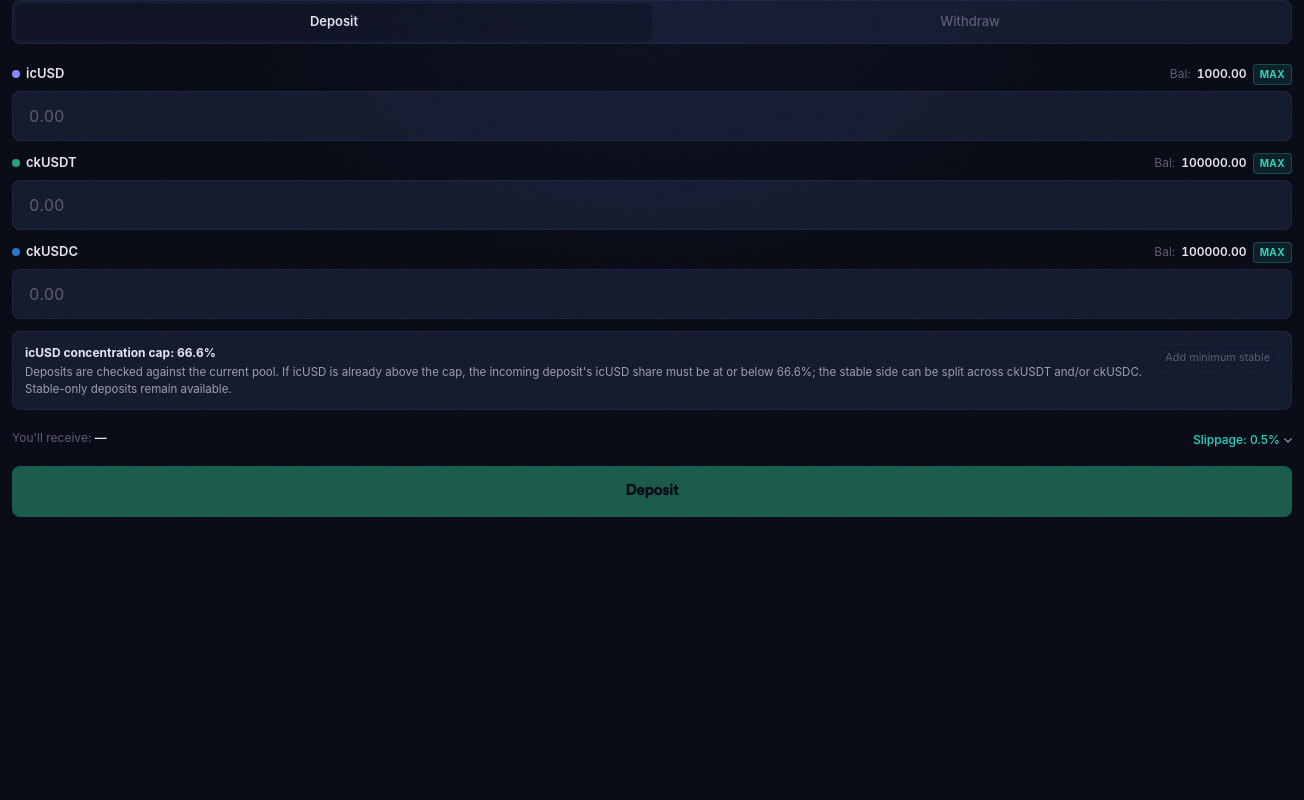
Test: LiquidityInterface deposit concentration UX › explains the missing stable amount and disables an invalid icUSD-only deposit
Type "100" into the number field with class "amount-input" below "1000.00" at (652, 116), box [12,90,1292,140]
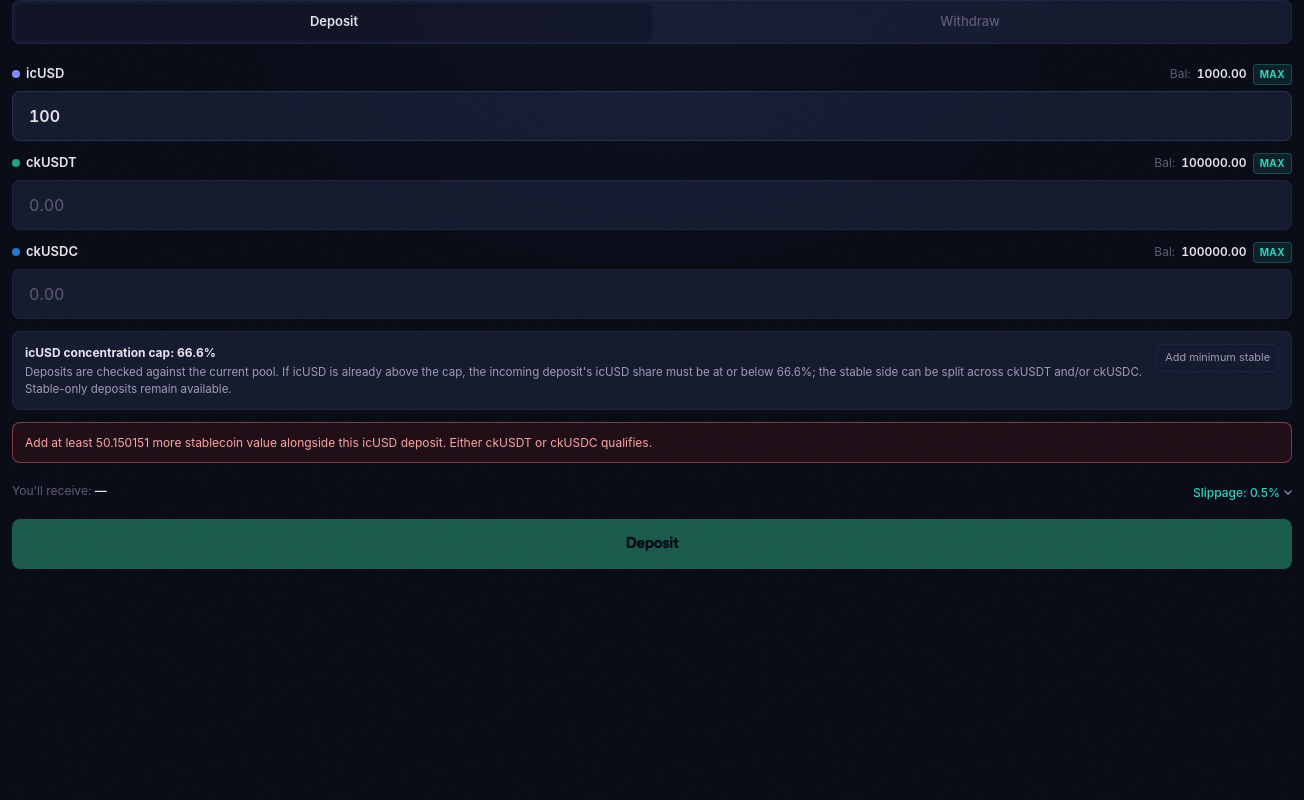
Expected: the button with class "submit-btn" is disabled, [12,519,1292,569]
Result: the text "more stablecoin value" is shown at [25,435,652,450]
Result: the text "Either ckUSDT or ckUSDC qualifies" is shown at [25,435,652,450]
